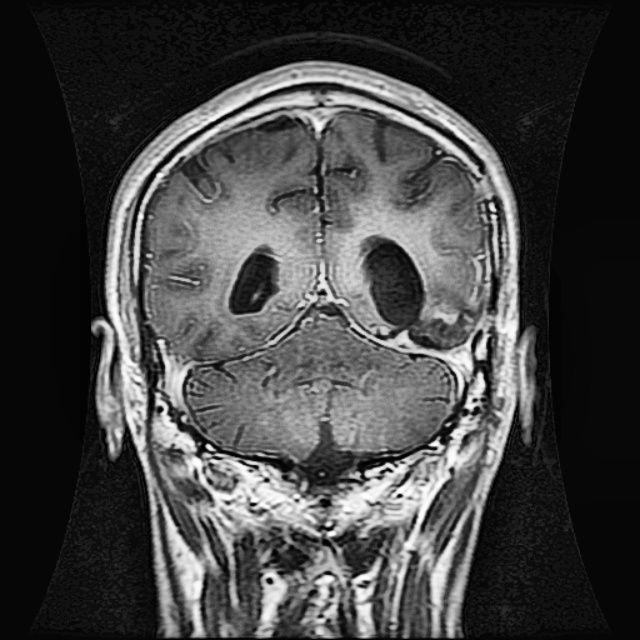Meningioma: (362, 233, 479, 348)
